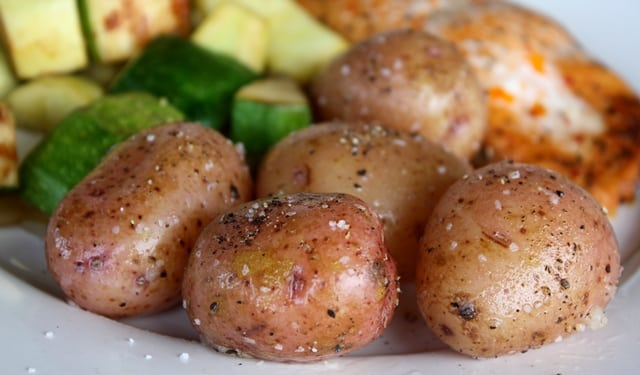boiled potatoes: (416, 167, 609, 355), (53, 129, 227, 316), (194, 194, 388, 353), (262, 123, 447, 213)
